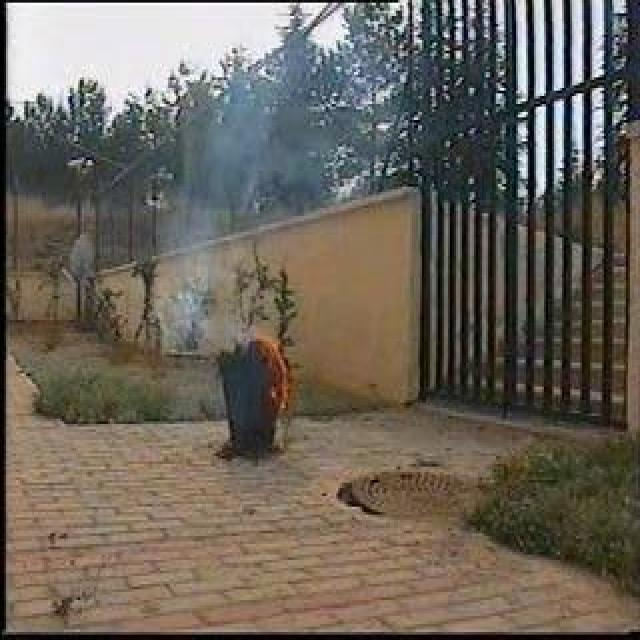fire: (267, 334, 295, 406)
